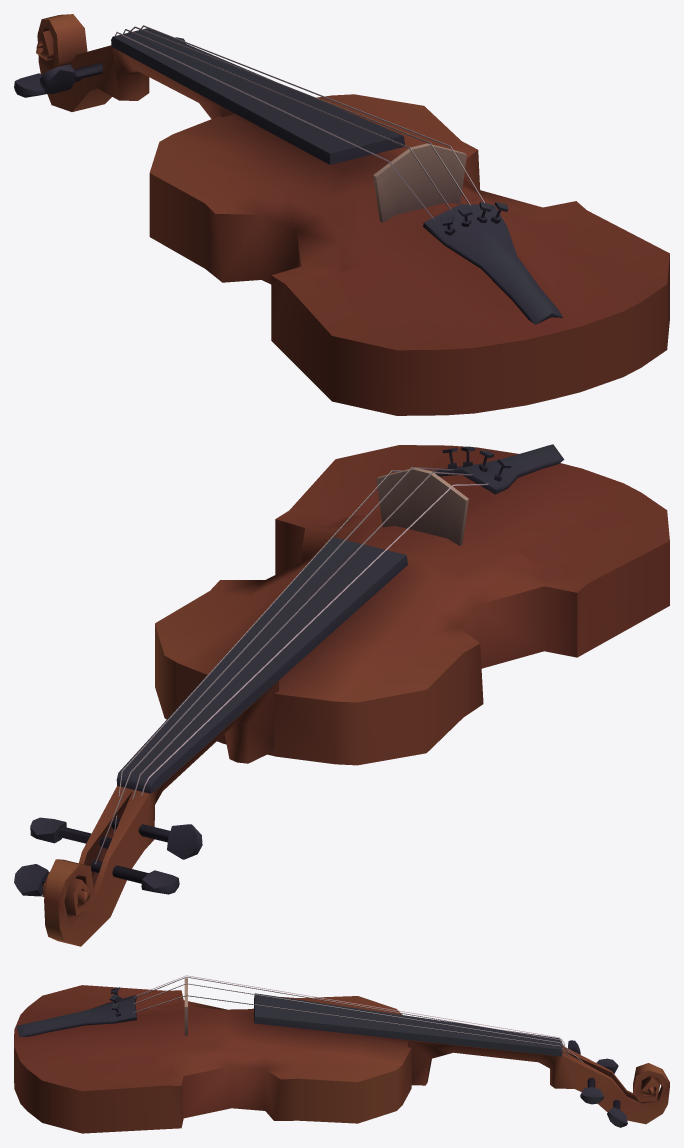
File: human-music-violin_v3.glb
The picture shows the model from 3 angles, top to bottom: view 1: azimuth 30°, elevation 25°; view 2: azimuth 150°, elevation 25°; view 3: azimuth 270°, elevation 25°; orthographic projection. The views are drawn at different scales.
Visible parts, largest first — view 1: Violin_v3; view 2: Violin_v3; view 3: Violin_v3.
Boxes of the visible parts, box(x1,y1,x2,y2) form: Violin_v3: box(14, 14, 669, 415); Violin_v3: box(14, 444, 669, 946); Violin_v3: box(14, 975, 669, 1133).
Size of the model in its own units: 0.2299 by 0.142 by 0.6.
